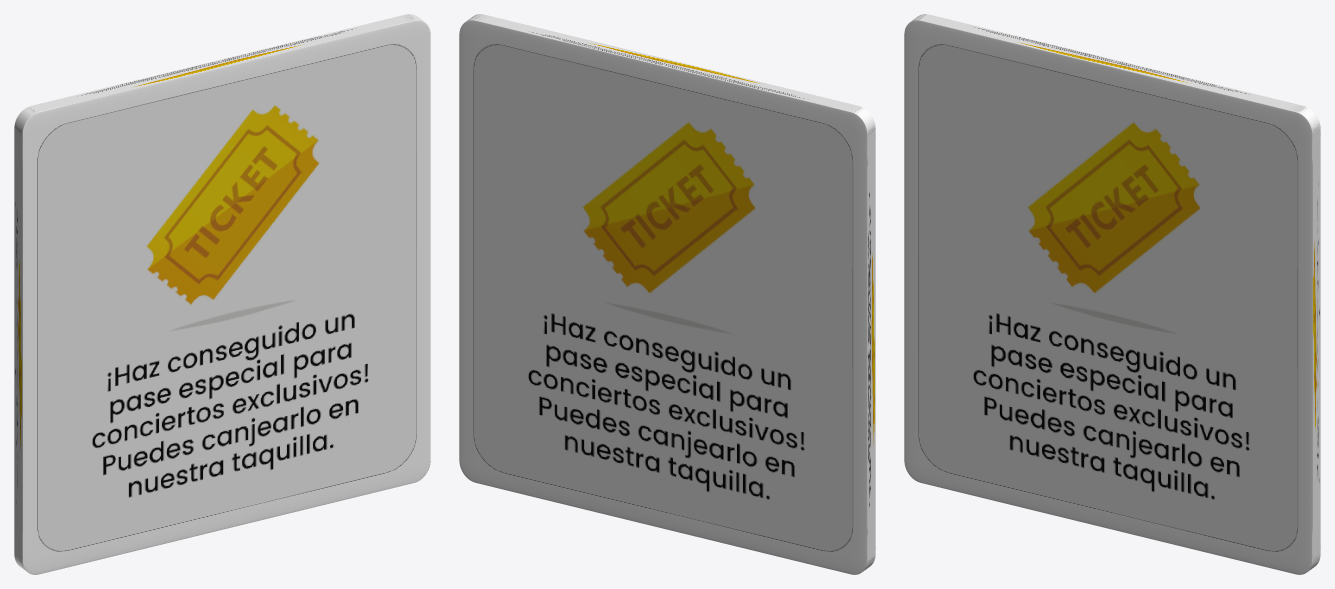
File: ticket.glb
3 renders of one model, left to right at view 1: azimuth 30°, elevation 25°; view 2: azimuth 150°, elevation 25°; view 3: azimuth 330°, elevation 25°, orthographic.
Parts seen in each view (by area): view 1: Box; view 2: Box; view 3: Box.
Boxes of the visible parts, x1,y1,x2,y2 form: Box: [14, 14, 430, 574]; Box: [459, 14, 875, 574]; Box: [904, 14, 1320, 574].
Bounding box in the file's own units: 1.15 × 1.24 × 0.043.
1 material, 1 textured.
